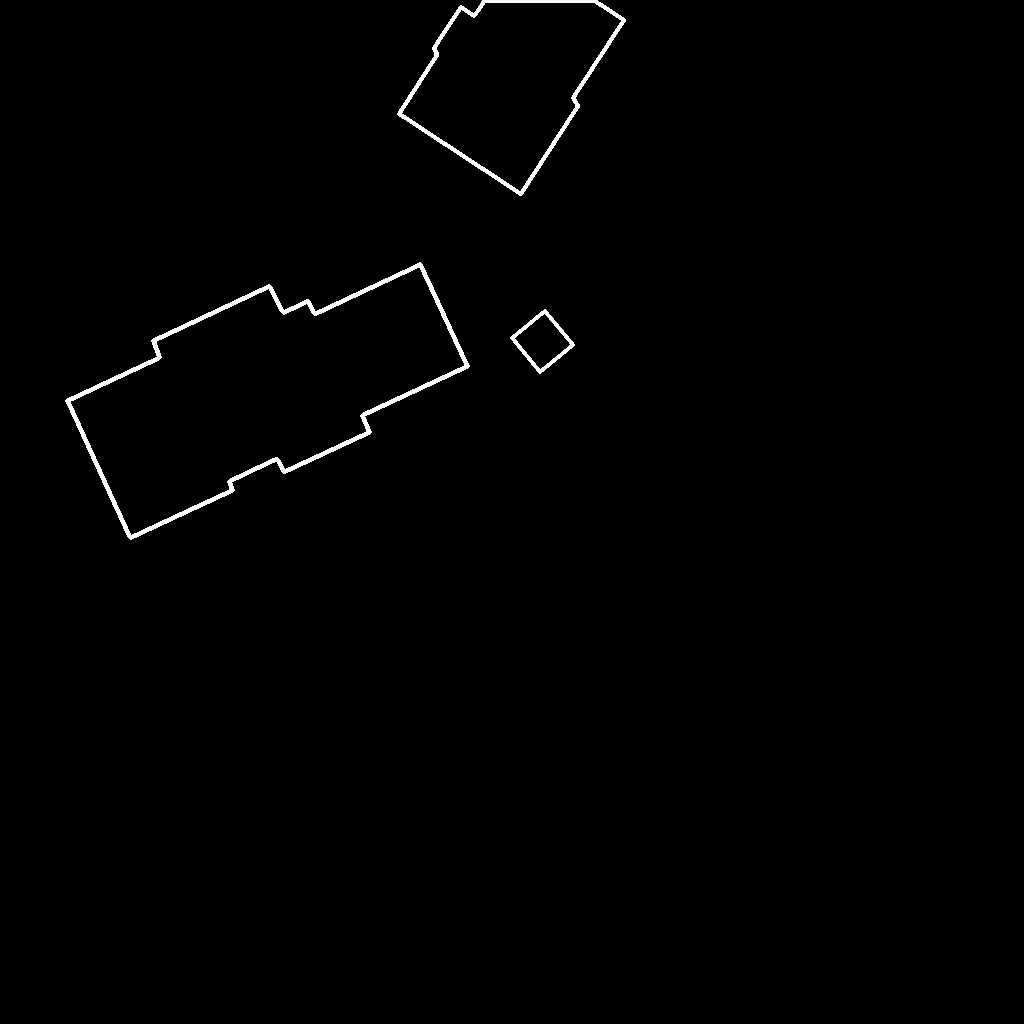building: (67, 264, 469, 539), (399, 0, 625, 195), (512, 311, 574, 373)
